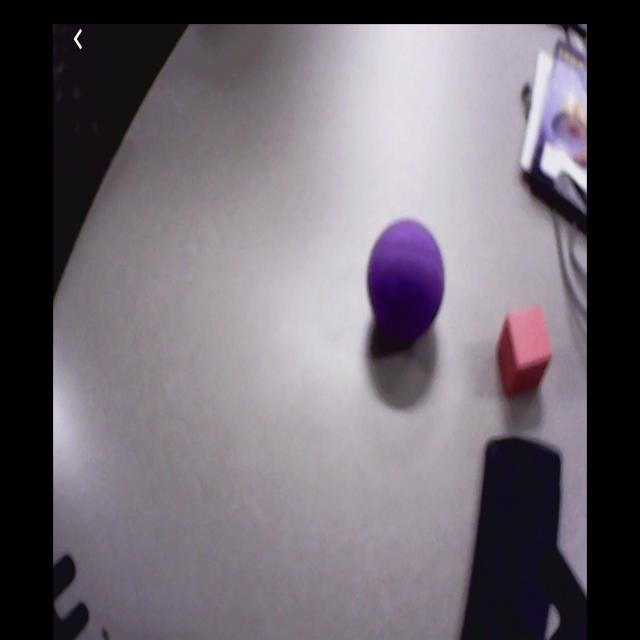ball: (369, 219, 446, 336)
